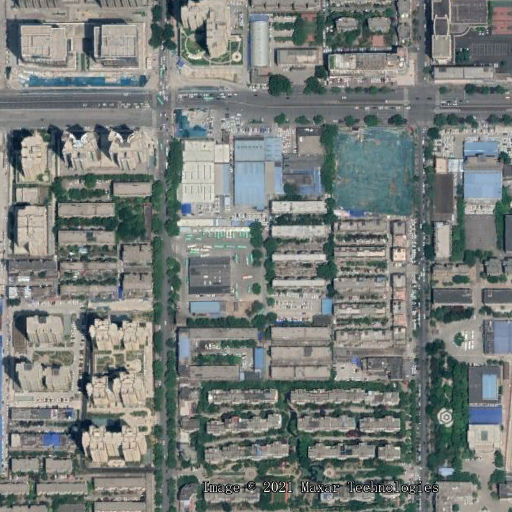cw: (335, 124, 415, 215)
